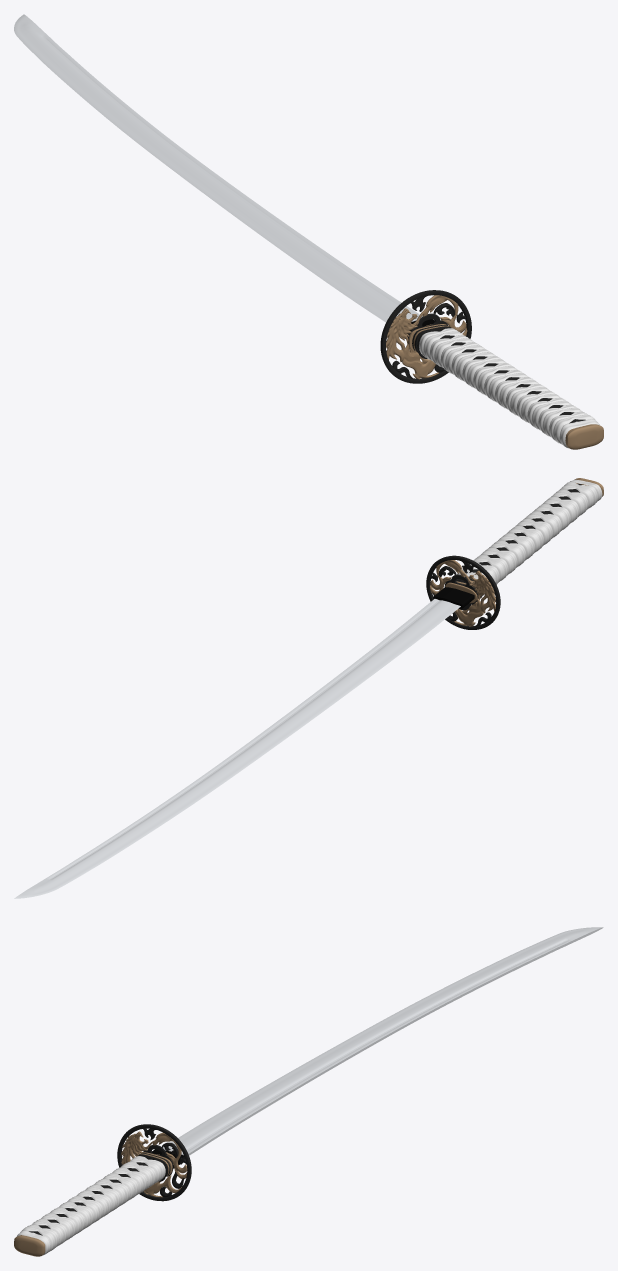
The model's file is katana.glb.
3 renders of one model, top to bottom at view 1: azimuth 30°, elevation 25°; view 2: azimuth 150°, elevation 25°; view 3: azimuth 330°, elevation 25°, orthographic. The views are drawn at different scales.
Visible parts, largest first — view 1: Cube, Circle.004, Plane.006, Plane, Cube.001, Plane.002, Circle; view 2: Cube, Circle.004, Plane.006, Plane; view 3: Cube, Circle.004, Plane.006, Plane, Cube.001, Plane.002, Circle.
Part boxes in pixels (bbox=[...]): Cube: bbox=[14, 14, 422, 322]; Circle.004: bbox=[419, 328, 600, 448]; Plane.006: bbox=[386, 295, 467, 379]; Plane: bbox=[380, 290, 471, 383]; Cube.001: bbox=[565, 424, 603, 449]; Plane.002: bbox=[392, 296, 466, 379]; Circle: bbox=[437, 330, 585, 423]; Cube: bbox=[14, 599, 460, 898]; Circle.004: bbox=[456, 479, 602, 595]; Plane.006: bbox=[430, 560, 496, 626]; Plane: bbox=[426, 555, 500, 629]; Cube: bbox=[163, 927, 603, 1155]; Circle.004: bbox=[17, 1156, 165, 1255]; Plane.006: bbox=[121, 1131, 187, 1197]; Plane: bbox=[117, 1124, 191, 1201]; Cube.001: bbox=[14, 1235, 45, 1256]; Plane.002: bbox=[142, 1128, 186, 1197]; Circle: bbox=[29, 1158, 151, 1235].
Bounding box in the file's own units: 0.1077 × 0.0779 × 1.
